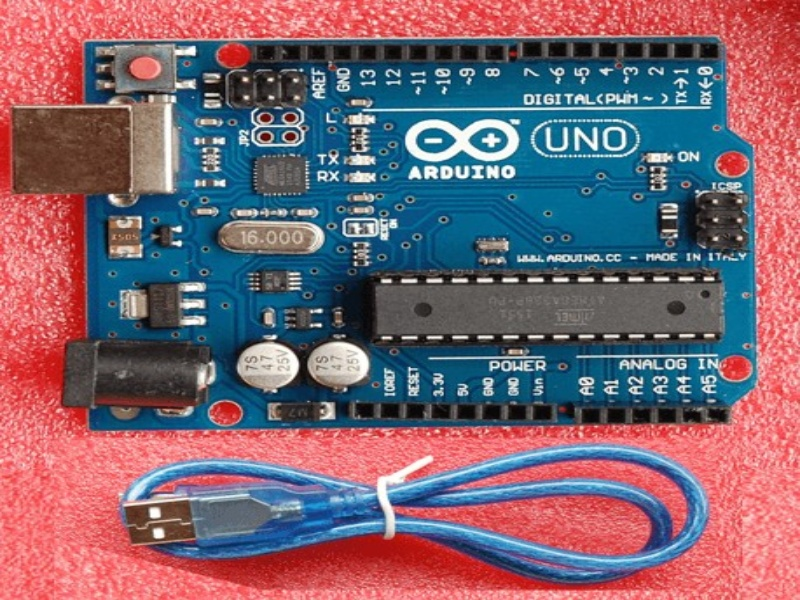uno: (62, 33, 760, 443)
